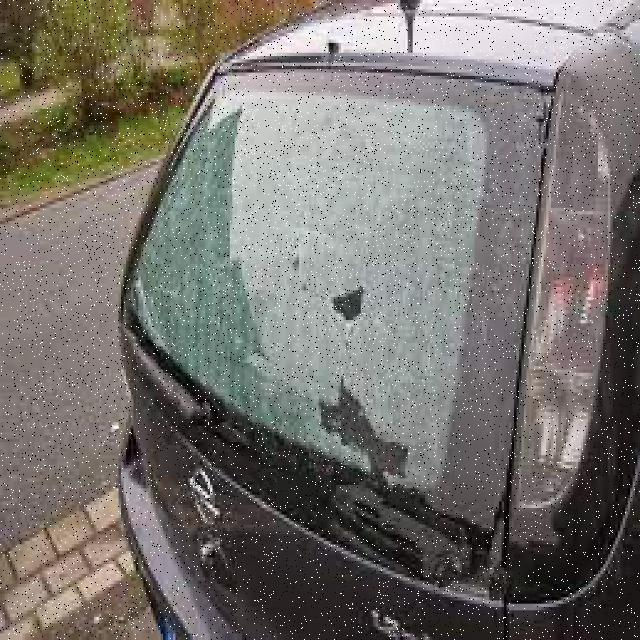Rear-windscreen-Damage: (91, 39, 568, 478)
